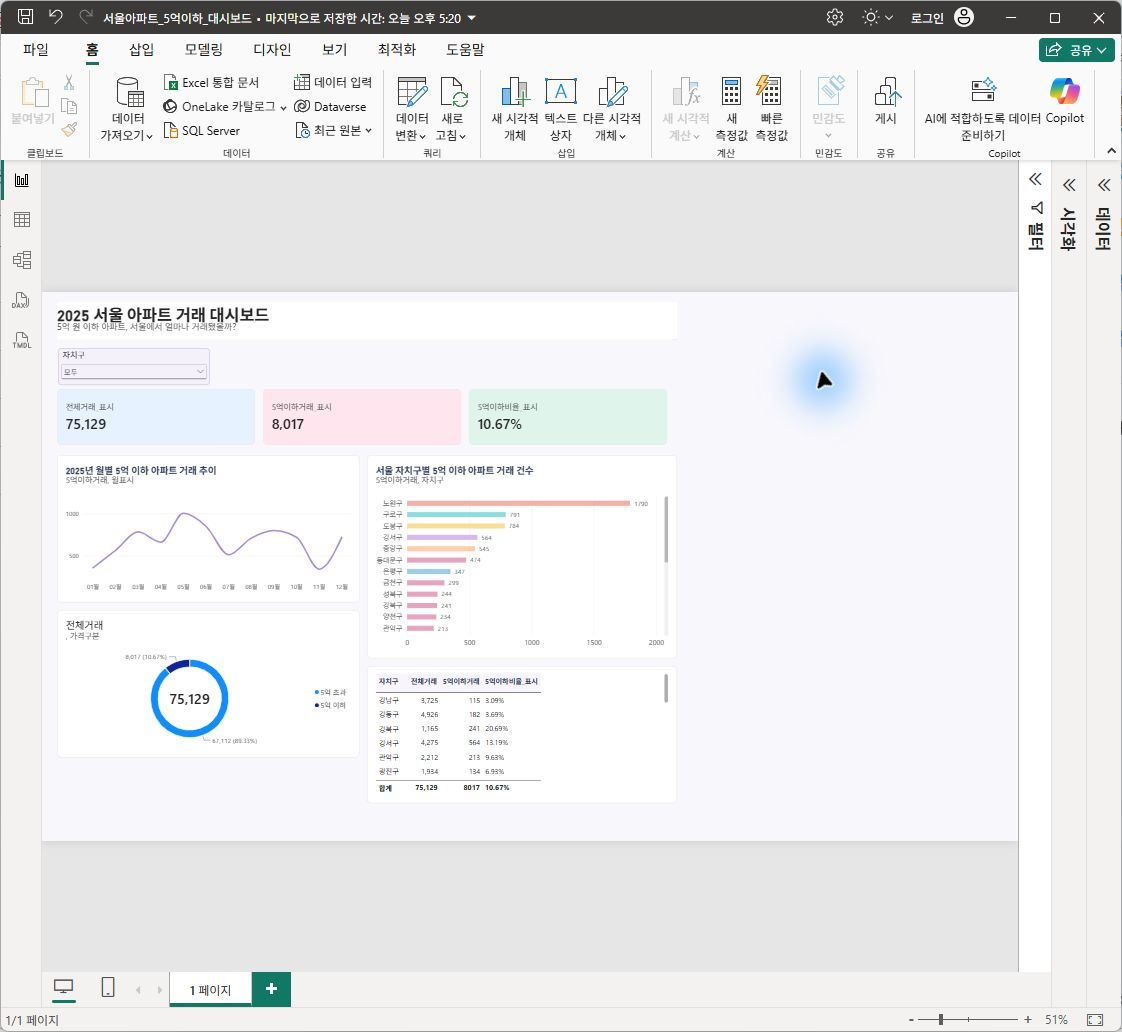

Layout of this report page (visuals, bound fields, positions):
{"tool":"powerbi","page":{"name":"1 페이지","canvas":[1920,1080],"ordinal":0},"visuals":[{"type":"cardVisual","fields":{"Data":["서울아파트_2025_분석용.전체거래_표시"]},"box":[30,190,390,110],"z":0},{"type":"cardVisual","fields":{"Data":["서울아파트_2025_분석용.5억이하거래_표시"]},"box":[435,190,390,110.4],"z":1000},{"type":"cardVisual","fields":{"Data":["서울아파트_2025_분석용.5억이하비율_표시"]},"box":[840,190,390,110],"z":2000},{"type":"lineChart","title":"2025년 월별 5억 이하 아파트 거래 추이","fields":{"Category":["서울아파트_2025_분석용.월표시"],"Y":["서울아파트_2025_분석용.5억이하거래"]},"box":[30,320,595,290],"z":3000},{"type":"clusteredBarChart","title":"서울 자치구별 5억 이하 아파트 거래 건수","fields":{"Category":["서울아파트_2025_분석용.자치구"],"Y":["서울아파트_2025_분석용.5억이하거래"]},"box":[640,320,610,400],"z":4000},{"type":"slicer","fields":{"Values":["서울아파트_2025_분석용.자치구"]},"box":[30.6,110.4,299.3,73.2],"z":5000},{"type":"textbox","title":"2025 서울 아파트 거래 대시보드","box":[30,20,1220,75],"z":6000},{"type":"donutChart","fields":{"Category":["서울아파트_2025_분석용.가격구분"],"Y":["서울아파트_2025_분석용.전체거래"]},"box":[30,625,595,290],"z":7000},{"type":"tableEx","fields":{"Values":["서울아파트_2025_분석용.자치구","서울아파트_2025_분석용.전체거래","서울아파트_2025_분석용.5억이하거래","서울아파트_2025_분석용.5억이하비율_표시"]},"box":[640,735,610,270],"z":8000},{"type":"textbox","box":[30.6,915.1,594.5,164.9],"z":8002}]}

Visuals, with their boxes on the page's 1920x1080 design canvas (x1, y1, x2, y2). These are canvas units, not pixel positions in the 1122x1032 screenshot, which may show the page scaled, cropped or inside an application window:
cardVisual - 서울아파트_2025_분석용.전체거래_표시: 30,190,420,300
cardVisual - 서울아파트_2025_분석용.5억이하거래_표시: 435,190,825,300
cardVisual - 서울아파트_2025_분석용.5억이하비율_표시: 840,190,1230,300
"2025년 월별 5억 이하 아파트 거래 추이" lineChart: 30,320,625,610
"서울 자치구별 5억 이하 아파트 거래 건수" clusteredBarChart: 640,320,1250,720
slicer - 서울아파트_2025_분석용.자치구: 31,110,330,184
"2025 서울 아파트 거래 대시보드" textbox: 30,20,1250,95
donutChart - 서울아파트_2025_분석용.가격구분 x 서울아파트_2025_분석용.전체거래: 30,625,625,915
tableEx - 서울아파트_2025_분석용.자치구 x 서울아파트_2025_분석용.전체거래: 640,735,1250,1005
textbox: 31,915,625,1080
